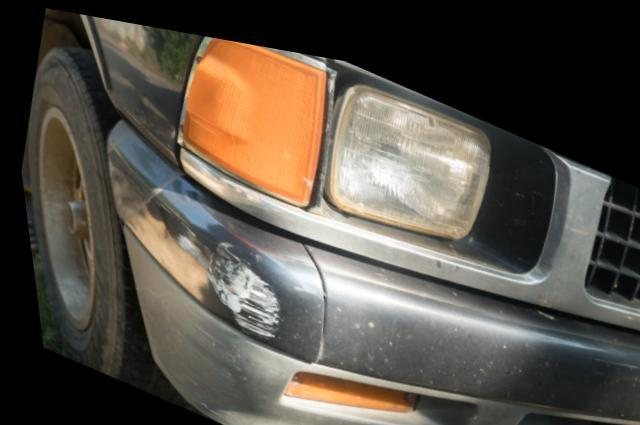scratch: (173, 225, 276, 334)
